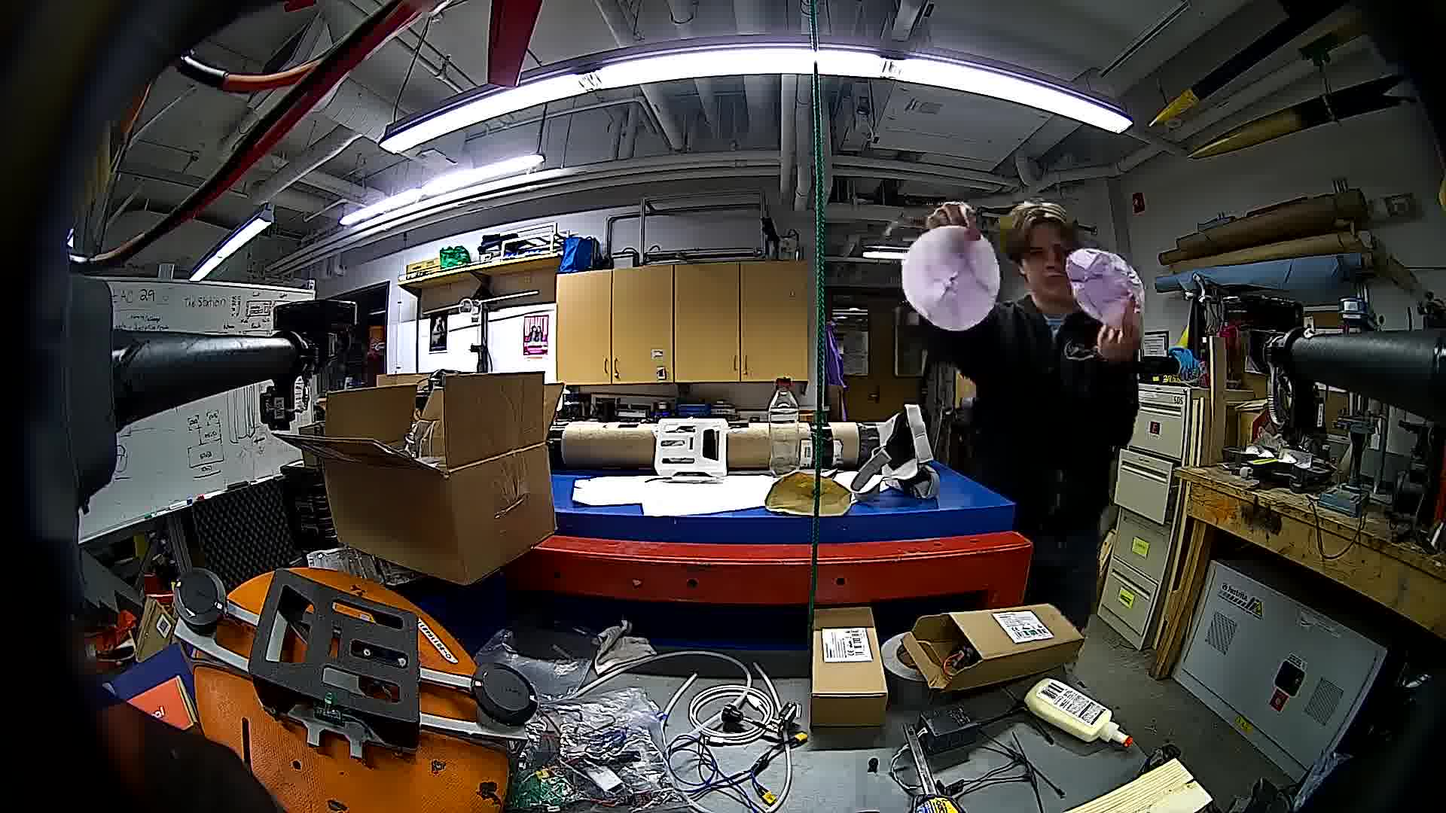Target: (901, 220, 1004, 333)
